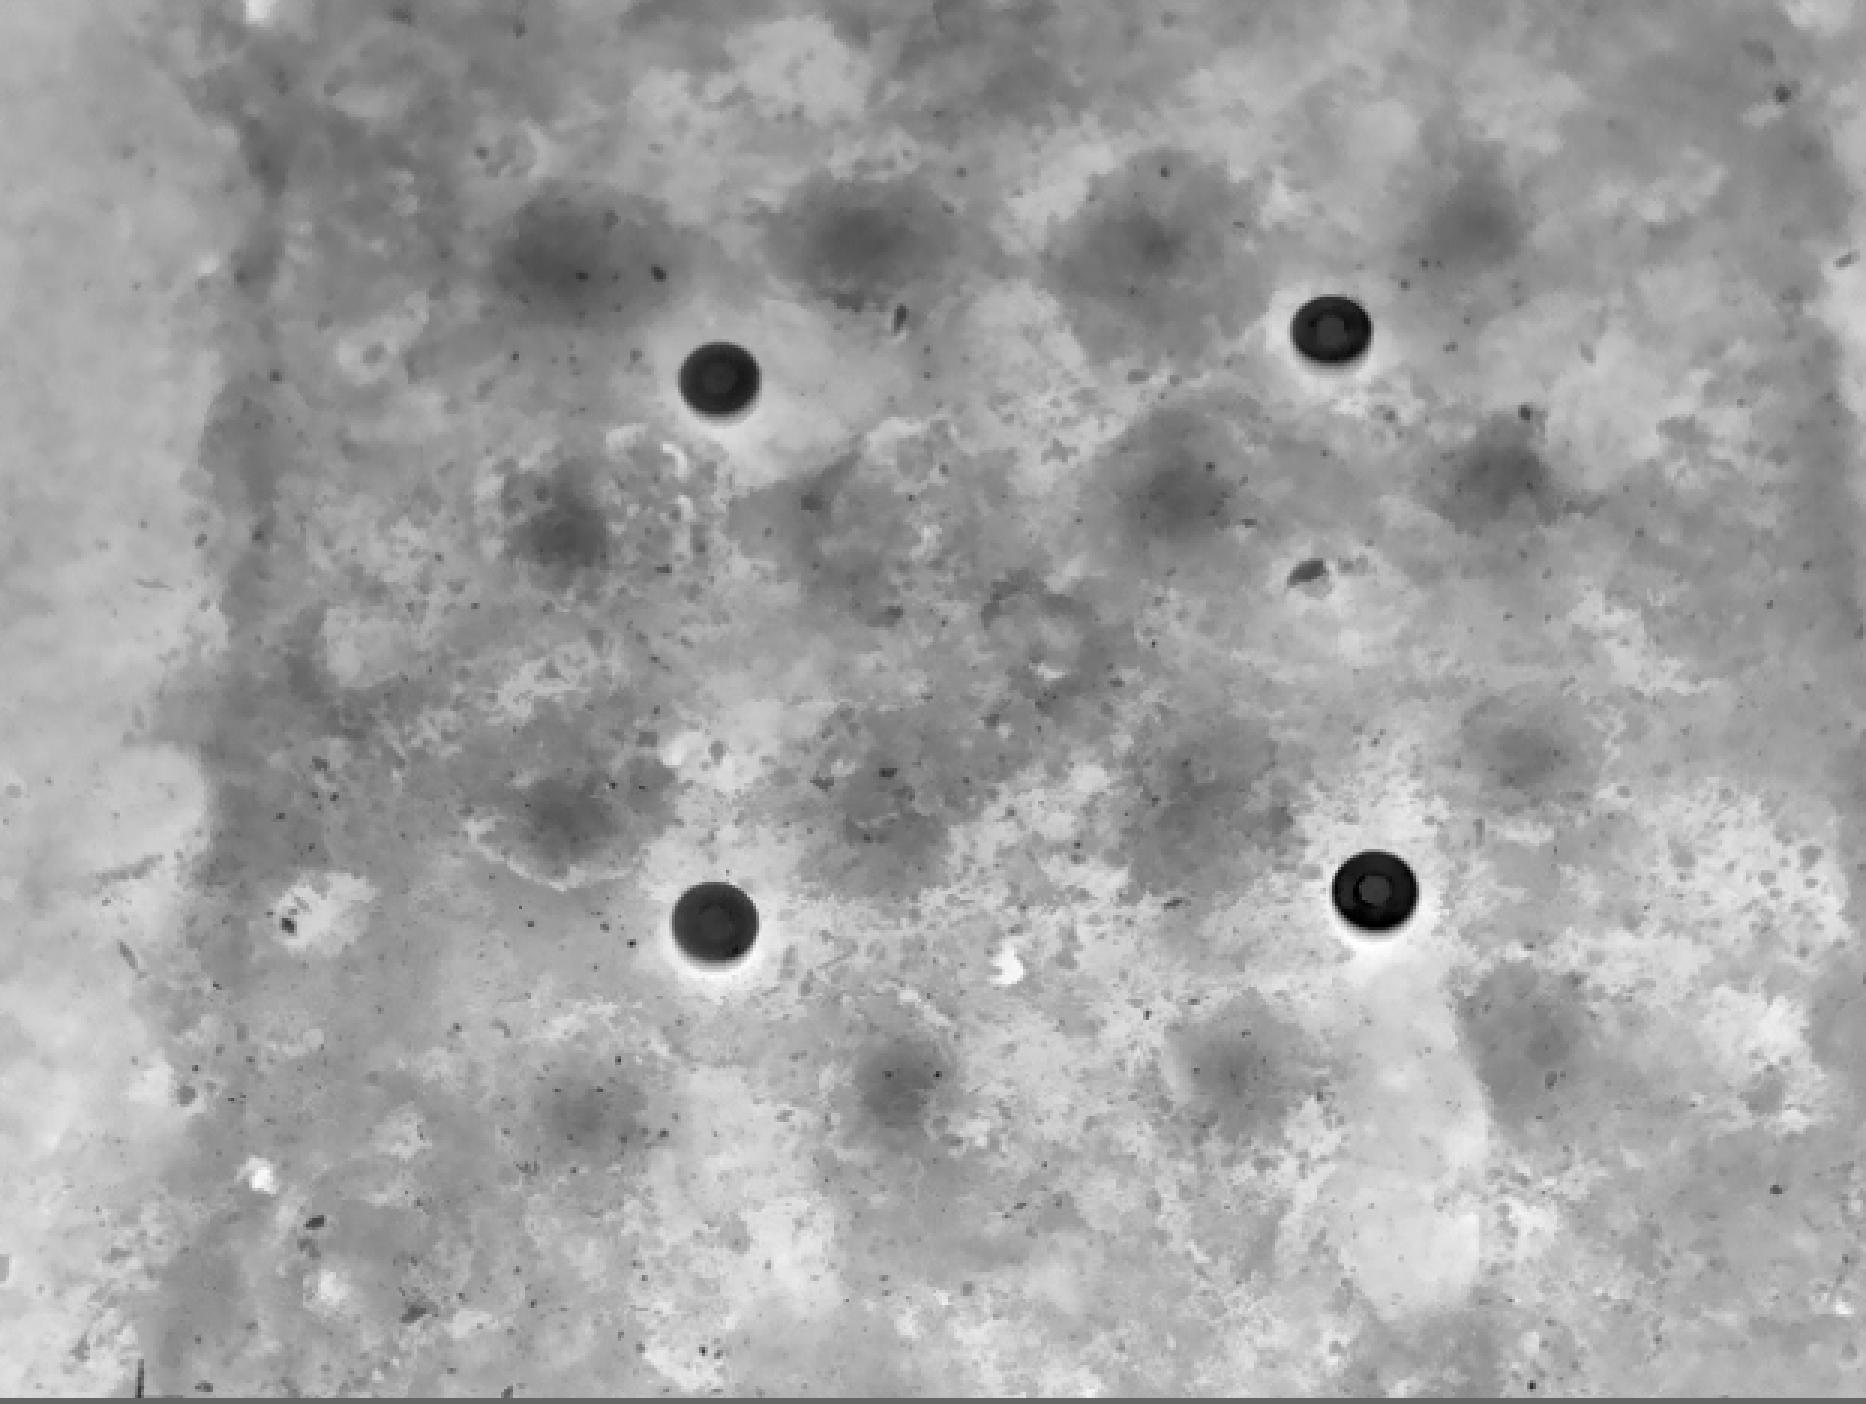mines-gjV8: (665, 882, 769, 973), (676, 342, 776, 423), (1288, 305, 1379, 380), (1335, 861, 1423, 931)
